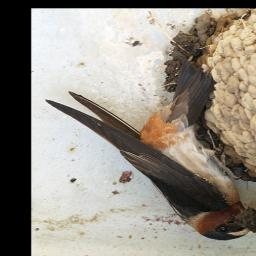Swallow: (43, 89, 256, 241)
